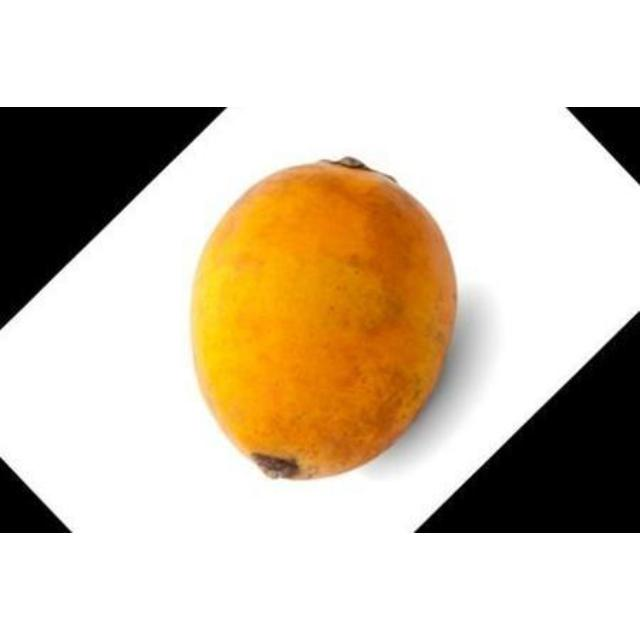good: (188, 158, 459, 482)
